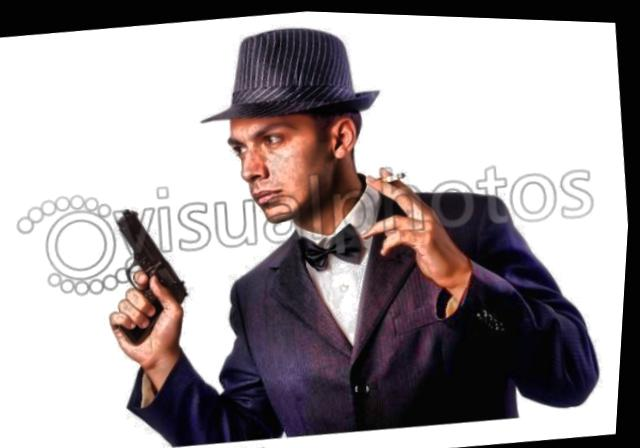pistol: (98, 202, 200, 346)
